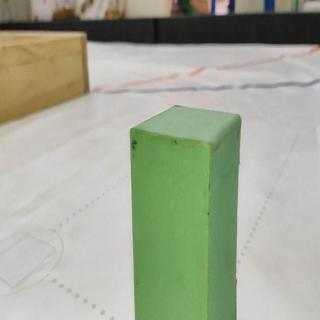greenbox: (127, 102, 245, 320)
